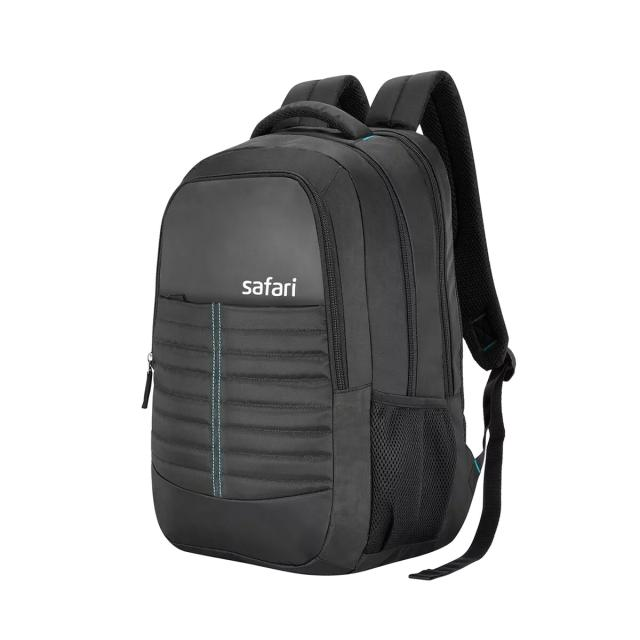backpack: (143, 70, 517, 582)
